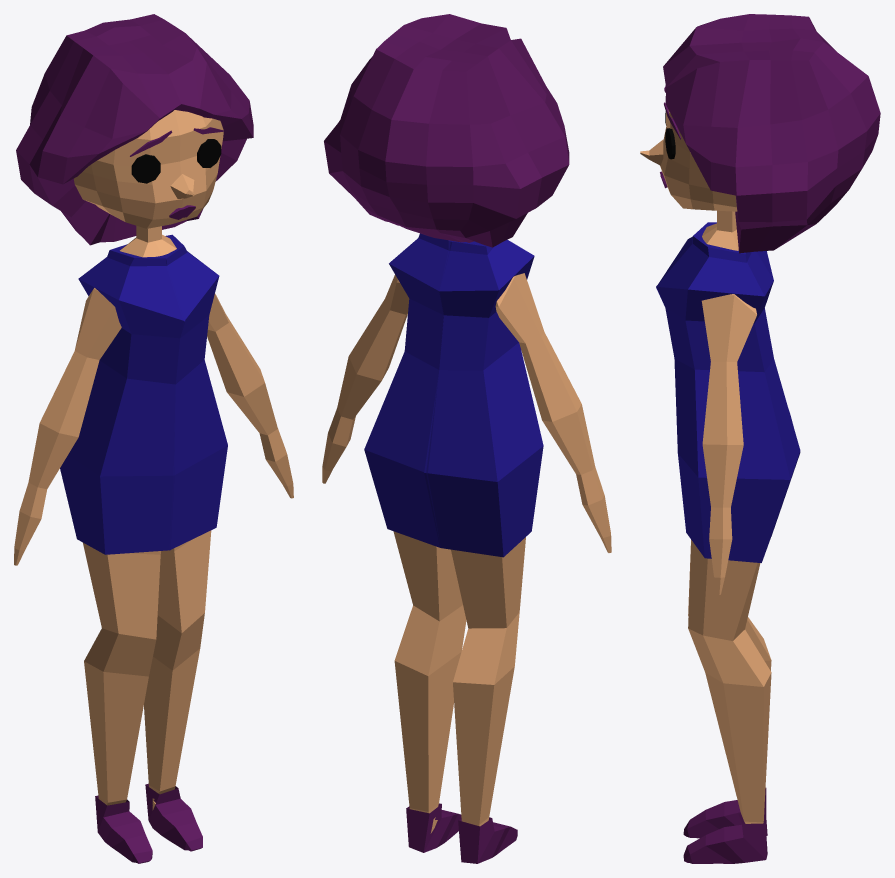
File: character_before_animation.fbx
3 renders of one model, left to right at view 1: azimuth 30°, elevation 25°; view 2: azimuth 150°, elevation 25°; view 3: azimuth 270°, elevation 25°, orthographic. The views are drawn at different scales.
Visible parts, largest first — view 1: dress, hair, leg_left, leg_right, head, arm_left, arm_right, eye, neck; view 2: dress, hair, leg_left, leg_right, arm_left, arm_right; view 3: hair, dress, leg_right, arm_right, head, leg_left, neck.
Part boxes in pixels (left/top/right/bottom): dress: left=60, top=234, right=227, bottom=554; hair: left=16, top=14, right=253, bottom=245; leg_left: left=82, top=542, right=160, bottom=863; leg_right: left=144, top=530, right=211, bottom=851; head: left=74, top=110, right=223, bottom=228; arm_left: left=14, top=288, right=121, bottom=565; arm_right: left=207, top=293, right=293, bottom=498; eye: left=131, top=139, right=221, bottom=183; neck: left=120, top=226, right=176, bottom=257; dress: left=364, top=233, right=543, bottom=557; hair: left=324, top=14, right=569, bottom=247; leg_left: left=451, top=537, right=525, bottom=863; leg_right: left=393, top=531, right=466, bottom=852; arm_left: left=495, top=273, right=611, bottom=552; arm_right: left=322, top=274, right=409, bottom=483; hair: left=663, top=14, right=880, bottom=253; dress: left=656, top=222, right=800, bottom=562; leg_right: left=683, top=541, right=771, bottom=863; arm_right: left=701, top=294, right=756, bottom=594; head: left=660, top=109, right=737, bottom=211; leg_left: left=683, top=540, right=771, bottom=838; neck: left=702, top=210, right=738, bottom=250.
Size of the model in its own units: 142 by 385 by 103.
